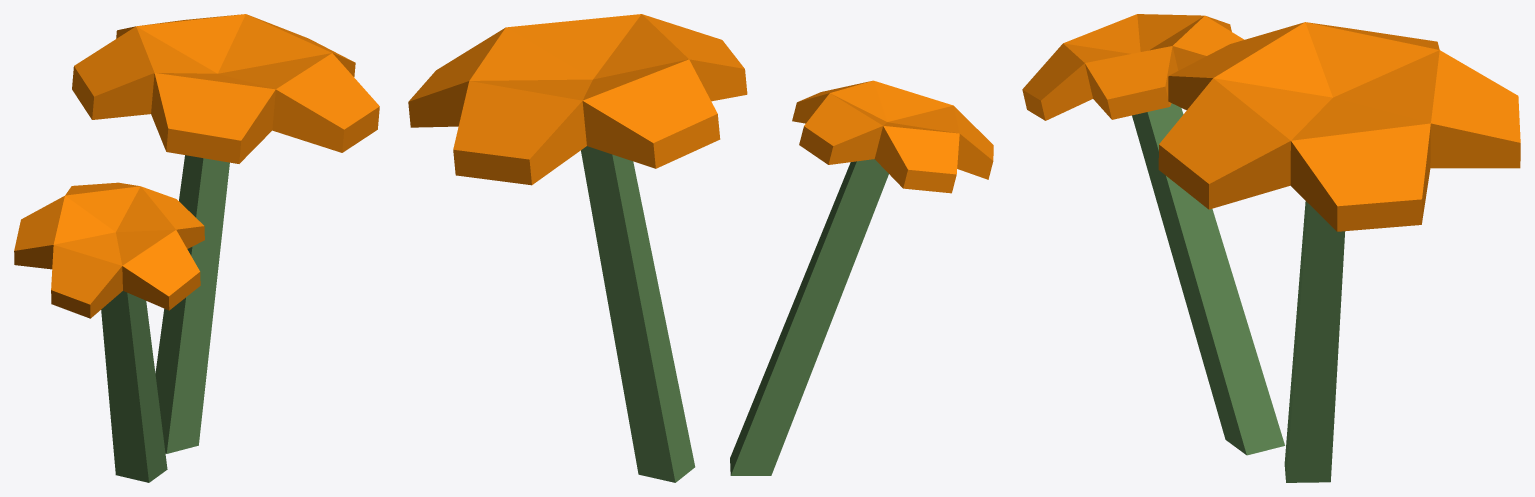
Rendered from flower_1.fbx.
The picture shows the model from 3 angles, left to right: view 1: azimuth 30°, elevation 25°; view 2: azimuth 150°, elevation 25°; view 3: azimuth 270°, elevation 25°; orthographic projection. The views are drawn at different scales.
Visible parts, largest first — view 1: flower_001; view 2: flower_001; view 3: flower_001.
Boxes of the visible parts, box(x1,y1,x2,y2) form: flower_001: box(14, 14, 379, 482); flower_001: box(408, 14, 993, 482); flower_001: box(1022, 14, 1520, 482).
Bounding box in the file's own units: 0.0854 × 0.0755 × 0.0774.
1 material, 1 textured.
